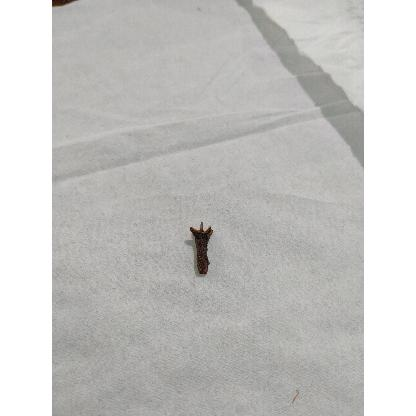buruk: (189, 222, 213, 277)
